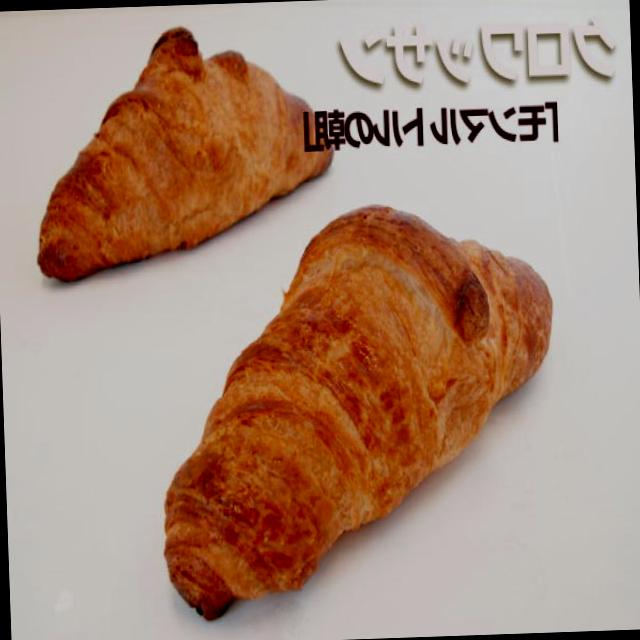Croissant: (116, 202, 578, 640)
